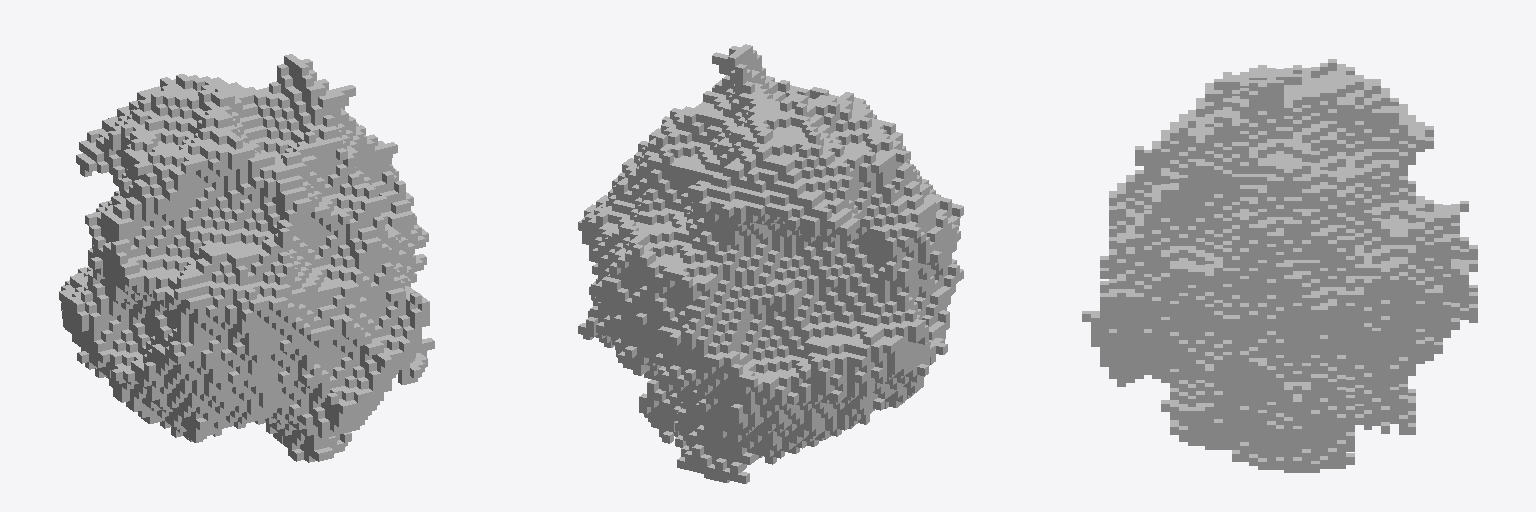
Rendered from Asteroid 1.obj.
The picture shows the model from 3 angles: view 1: azimuth 30°, elevation 25°; view 2: azimuth 150°, elevation 25°; view 3: azimuth 270°, elevation 25°; orthographic projection.
Visible parts, largest first — view 1: object 1; view 2: object 1; view 3: object 1.
Part boxes in pixels (bbox=[...]): object 1: bbox=[59, 54, 434, 462]; object 1: bbox=[578, 44, 963, 483]; object 1: bbox=[1082, 59, 1477, 472].
Bounding box in the file's own units: 4.4 × 4.8 × 4.5.